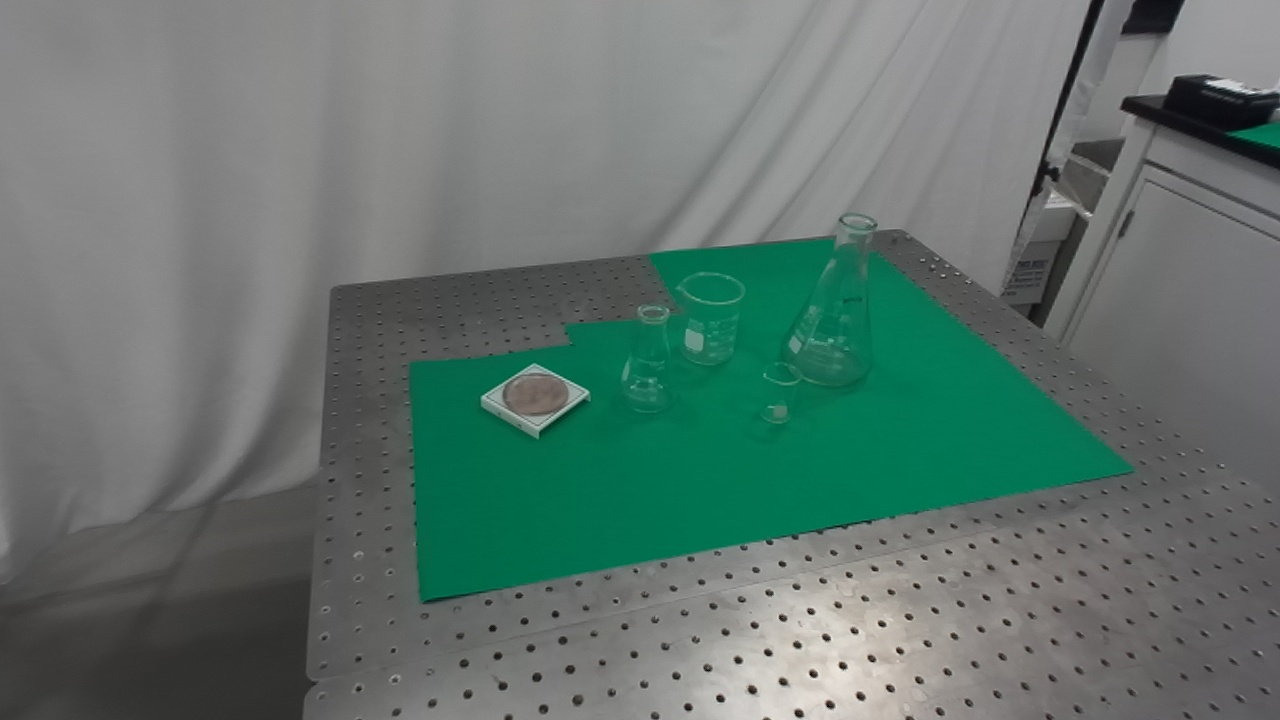glass: (780, 211, 878, 390), (616, 301, 681, 419), (673, 270, 747, 369), (759, 361, 803, 430)
plate: (476, 360, 595, 442)
